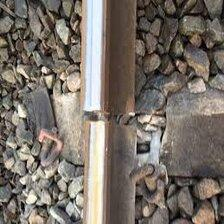railway-gap: (73, 87, 140, 151)
